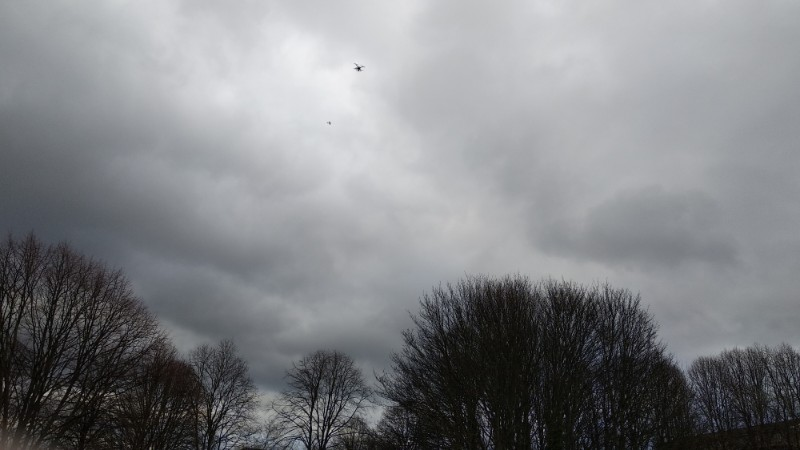drone: (352, 63, 365, 72)
